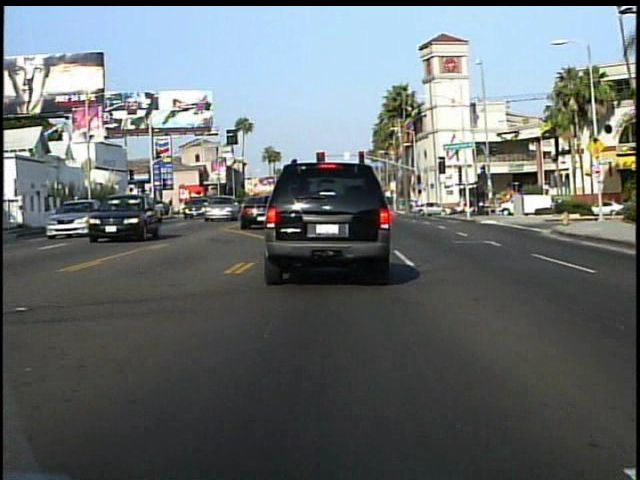person: (168, 195, 178, 221)
